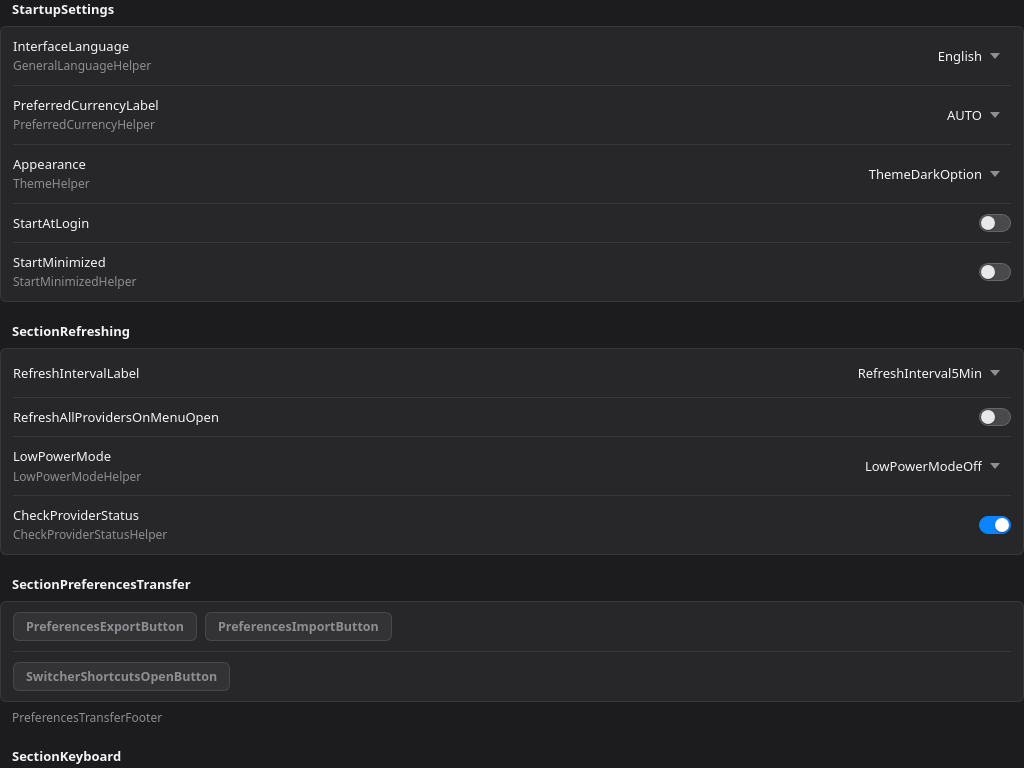
it: GeneralTab Mac grouped layout › opens the provider switcher shortcuts dialog and closes it with Escape or Done
Step 1. Click the button "SwitcherShortcutsOpenButton" → coordinates (122, 677), box [13, 662, 230, 691]
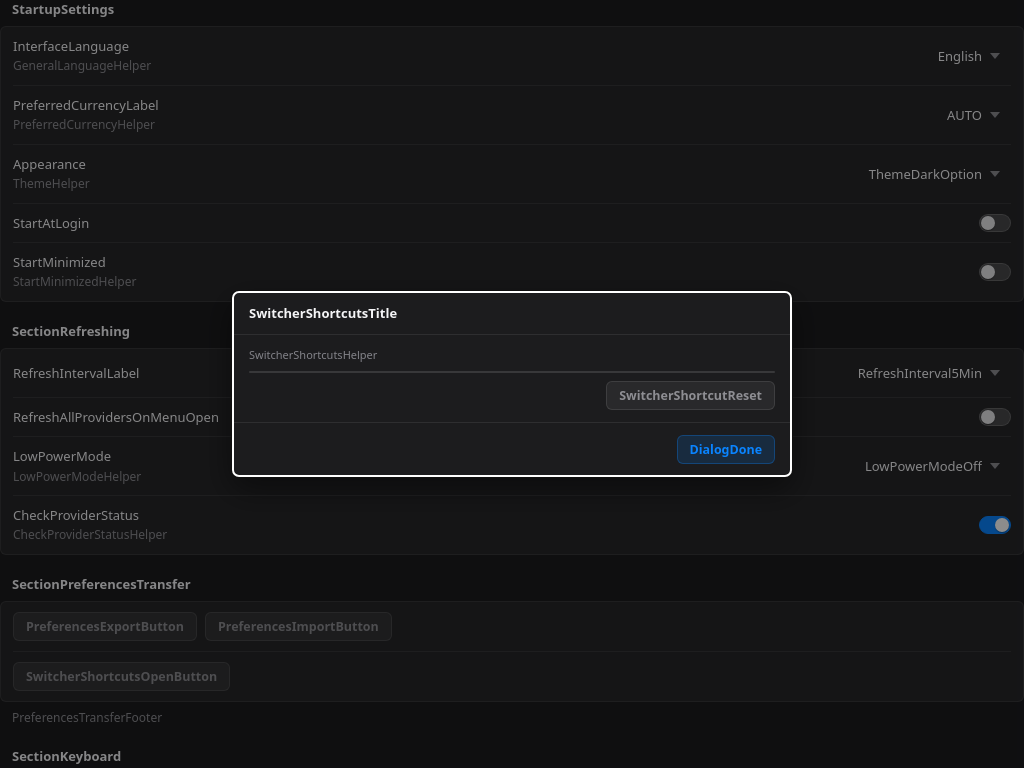
Result: the button "SwitcherShortcutReset" is shown at [606, 381, 775, 410]
Step 2. Press Escape in the dialog "SwitcherShortcutsTitle", box [232, 291, 792, 477]
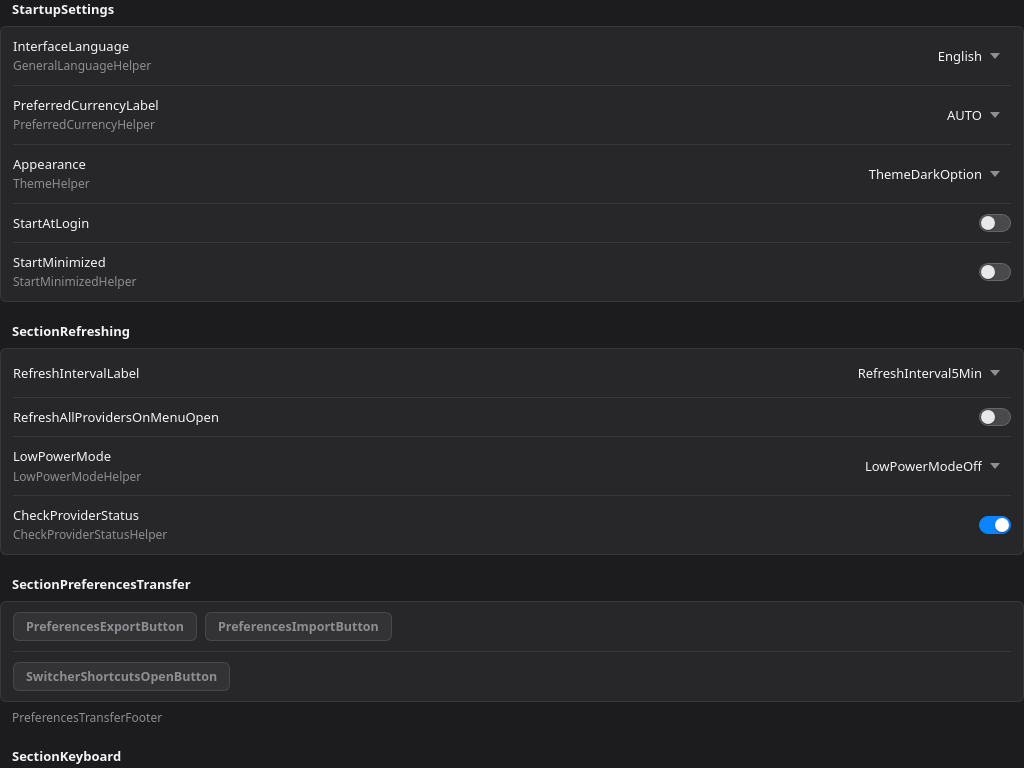
Result: the dialog is gone
Step 3. Click the button "SwitcherShortcutsOpenButton" → coordinates (122, 677), box [13, 662, 230, 691]
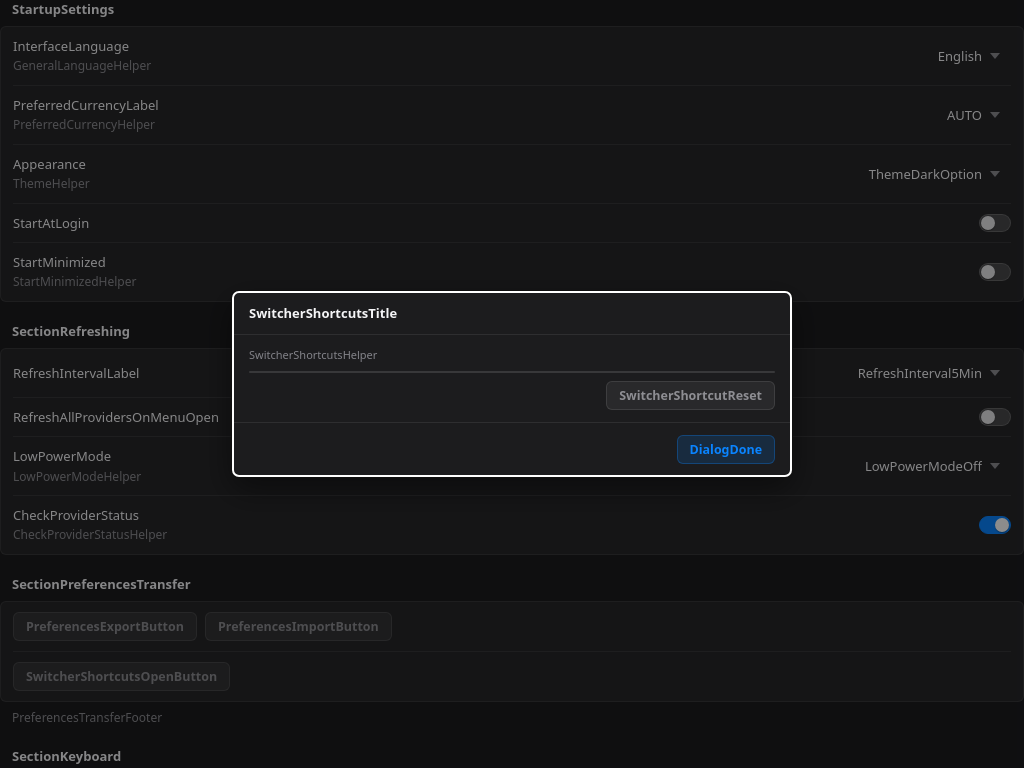
Step 4. Click the button "DialogDone" → coordinates (726, 449), box [676, 435, 775, 464]
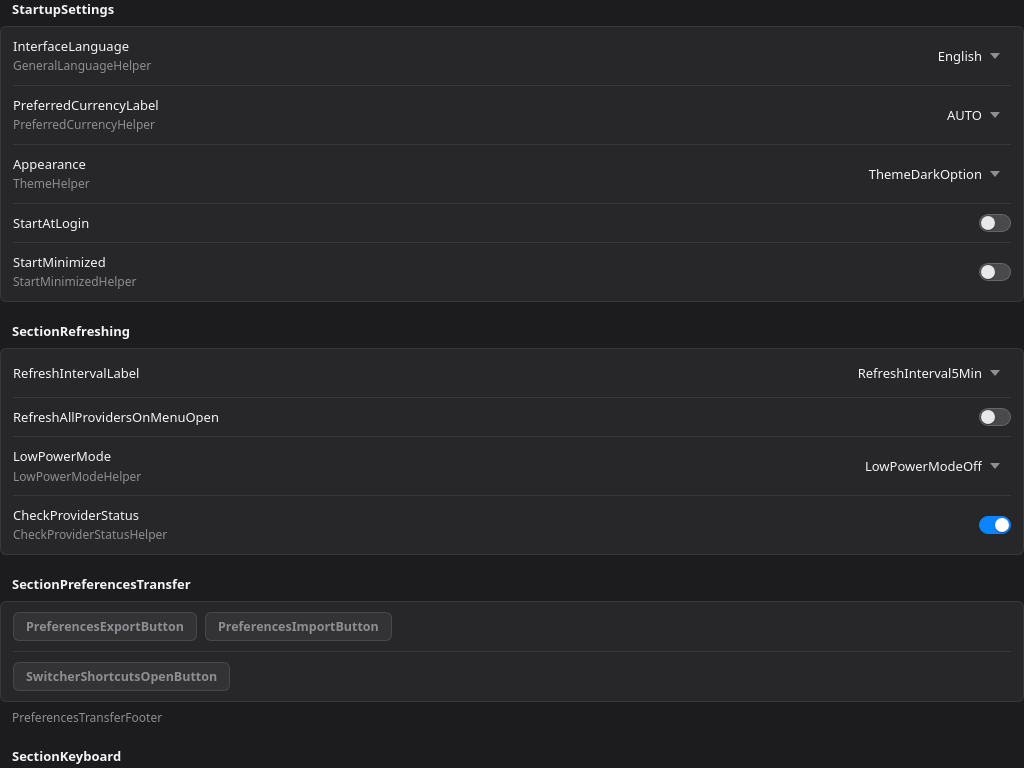
Result: the dialog is gone
